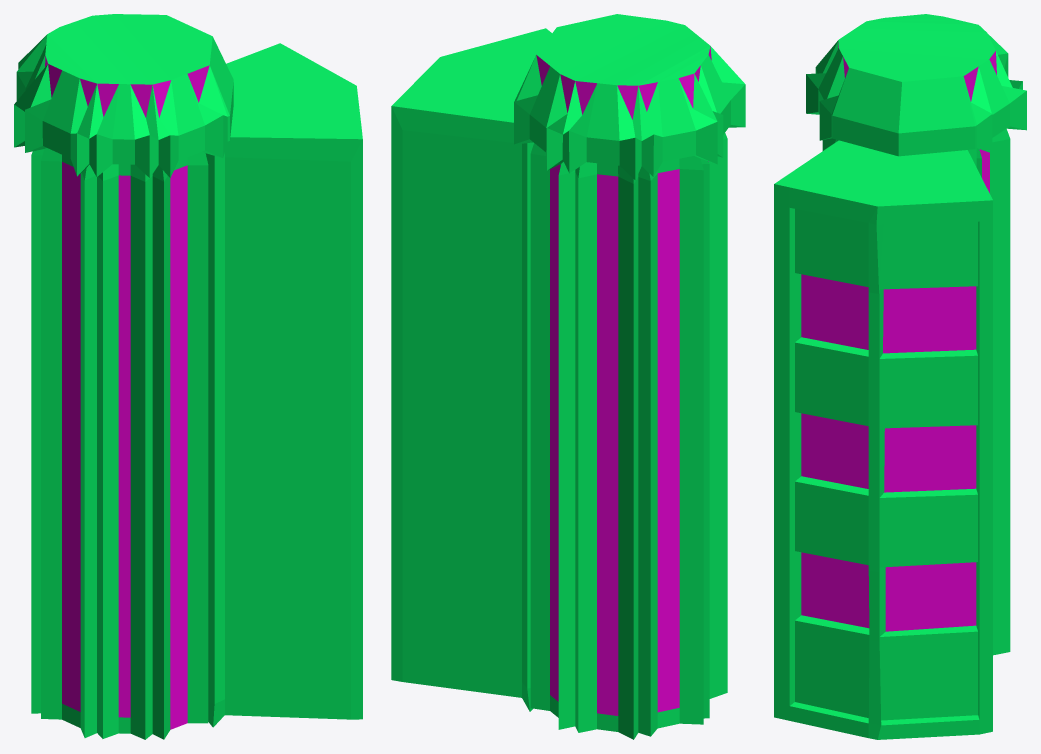
The picture shows the model from 3 angles, left to right: view 1: azimuth 30°, elevation 25°; view 2: azimuth 150°, elevation 25°; view 3: azimuth 270°, elevation 25°; orthographic projection. The views are drawn at different scales.
Visible parts, largest first — view 1: Object001.003; view 2: Object001.003; view 3: Object001.003.
Part boxes in pixels (bbox=[...]): Object001.003: bbox=[14, 14, 362, 739]; Object001.003: bbox=[391, 14, 745, 739]; Object001.003: bbox=[774, 14, 1026, 739].
Bounding box in the file's own units: 99.49 × 202 × 76.01.
